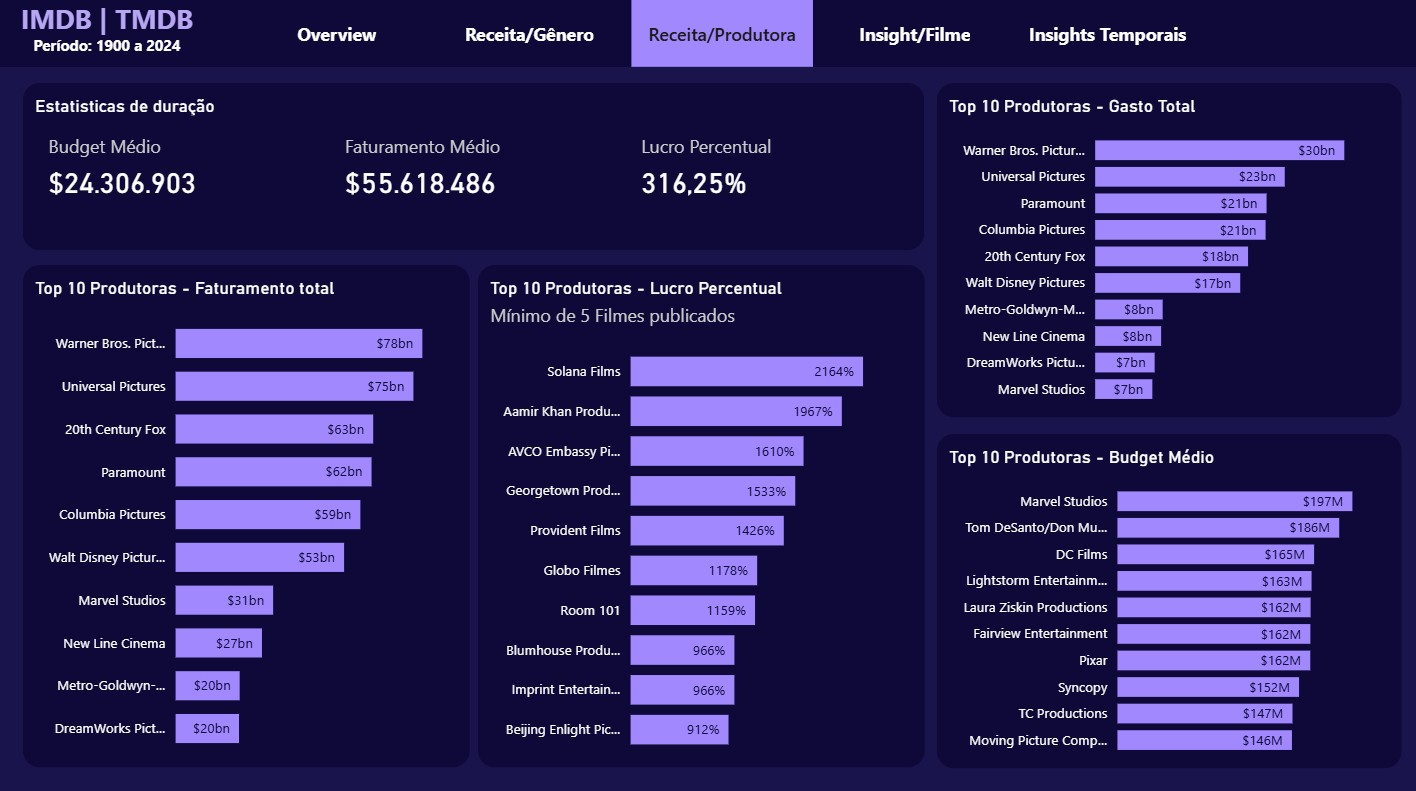

The page's visual inventory and layout, read from the dashboard file:
{"tool":"powerbi","page":{"name":"Receita/Produtora","canvas":[1280,720],"ordinal":2},"visuals":[{"type":"shape","box":[0,0,1280.2,65.5],"z":0},{"type":"clusteredBarChart","title":"Top 10 Produtoras - Faturamento total","fields":{"Category":["receita_por_produtora.production_companies_list"],"Y":["Sum(receita_por_produtora.faturamento_total)"]},"box":[24.3,243.2,400.7,451.3],"z":1000},{"type":"clusteredBarChart","title":"Top 10 Produtoras - Lucro Percentual","fields":{"Category":["receita_por_produtora.production_companies_list"],"Y":["Sum(receita_por_produtora.lucro_percentual)"]},"box":[432.8,243.2,400.7,451.3],"z":2000},{"type":"textbox","box":[0,5,199.3,67.3],"z":3000},{"type":"cardVisual","title":"Estatisticas de duração","fields":{"Data":["Avg(receita_por_produtora.budget_media)","Avg(receita_por_produtora.faturamento_media)","Avg(receita_por_produtora.lucro_percentual)"]},"box":[24.3,79.8,809.2,149.8],"z":4000},{"type":"clusteredBarChart","title":"Top 10 Produtoras - Gasto Total","fields":{"Y":["Sum(receita_por_produtora.budget_total)"],"Category":["receita_por_produtora.production_companies_list"]},"box":[845.2,79.8,417.3,299.6],"z":5000},{"type":"clusteredBarChart","title":"Top 10 Produtoras - Budget Médio","fields":{"Category":["receita_por_produtora.production_companies_list"],"Y":["Sum(receita_por_produtora.budget_media)"]},"box":[845.2,394.9,417.3,299.6],"z":6000},{"type":"pageNavigator","box":[224.4,5.4,855.6,60.1],"z":7000}]}

Visuals, with their boxes in screenshot pixels (x1, y1, x2, y2), scaled from the page's 1280x720 canvas onto the 1416x791 screenshot:
shape: Rect(0, 0, 1415, 72)
"Top 10 Produtoras - Faturamento total" clusteredBarChart: Rect(27, 267, 470, 763)
"Top 10 Produtoras - Lucro Percentual" clusteredBarChart: Rect(479, 267, 922, 763)
textbox: Rect(0, 5, 220, 79)
"Estatisticas de duração" cardVisual: Rect(27, 88, 922, 252)
"Top 10 Produtoras - Gasto Total" clusteredBarChart: Rect(935, 88, 1397, 417)
"Top 10 Produtoras - Budget Médio" clusteredBarChart: Rect(935, 434, 1397, 763)
pageNavigator: Rect(248, 6, 1195, 72)
